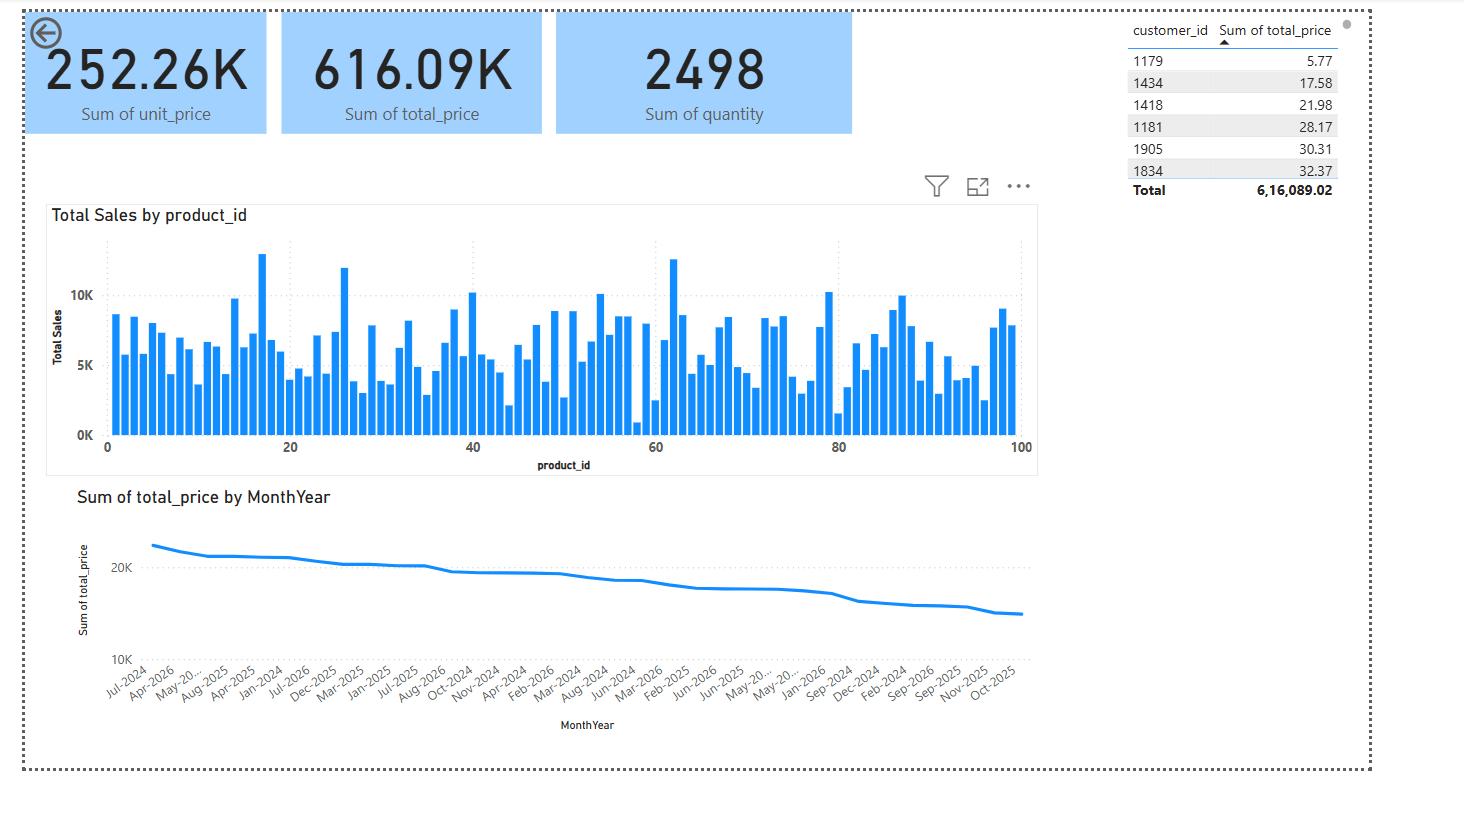

Layout of this report page (visuals, bound fields, positions):
{"tool":"powerbi","page":{"name":"Page 1","canvas":[1280,720],"ordinal":0},"visuals":[{"type":"card","fields":{"Values":["Sum(sales_db sales.quantity)"]},"box":[506,0,282,116],"z":0},{"type":"card","fields":{"Values":["Sum(sales_db sales.total_price)"]},"box":[244,0,248,116],"z":1000},{"type":"card","fields":{"Values":["Sum(sales_db sales.unit_price)"]},"box":[0,0,230,116],"z":2000},{"type":"columnChart","fields":{"Category":["sales_db sales.product_id"],"Y":["Sum(sales_db sales.total_price)"]},"box":[20,182.5,943.8,258.8],"z":3000},{"type":"lineChart","fields":{"Y":["Sum(sales_db sales.total_price)"],"Category":["sales_db sales.MonthYear"]},"box":[44.3,451.4,920,238.6],"z":4000},{"type":"tableEx","fields":{"Values":["sales_db sales.customer_id","Sum(sales_db sales.total_price)"]},"box":[1044,1,224,182],"z":4001},{"type":"actionButton","box":[0,0,100,40],"z":4002}]}

Visuals, with their boxes in screenshot pixels (x1, y1, x2, y2), scaled from the page's 1280x720 canvas onto the 1464x813 screenshot:
card - Sum(sales_db sales.quantity): bbox=[579, 0, 901, 131]
card - Sum(sales_db sales.total_price): bbox=[279, 0, 563, 131]
card - Sum(sales_db sales.unit_price): bbox=[0, 0, 263, 131]
columnChart - sales_db sales.product_id x Sum(sales_db sales.total_price): bbox=[23, 206, 1102, 498]
lineChart - Sum(sales_db sales.total_price) x sales_db sales.MonthYear: bbox=[51, 510, 1103, 779]
tableEx - sales_db sales.customer_id x Sum(sales_db sales.total_price): bbox=[1194, 1, 1450, 207]
actionButton: bbox=[0, 0, 114, 45]
